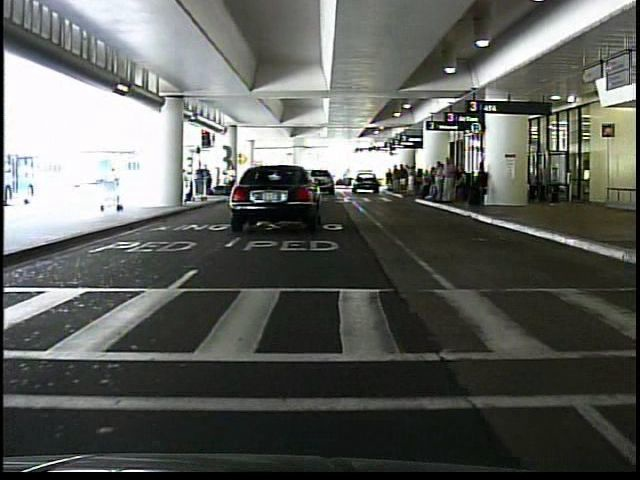person: (439, 153, 461, 208), (106, 163, 127, 209)
